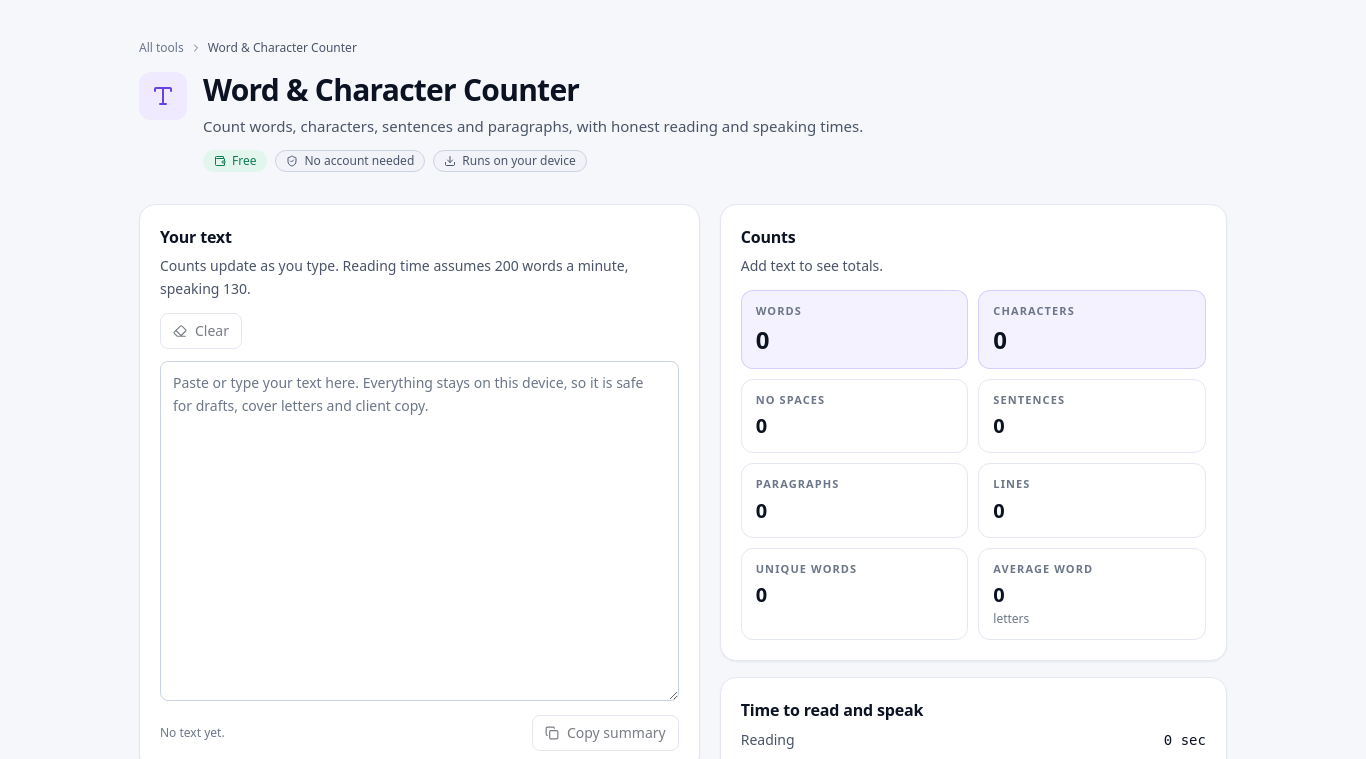
it: WordCounterPage › reports zero for an empty editor and clears back to that state
Expected: the 1st text "0" is shown, [756, 323, 769, 356]
Type "one two" into the text box named "Text to analyse" at [419, 531], box [160, 361, 679, 701]
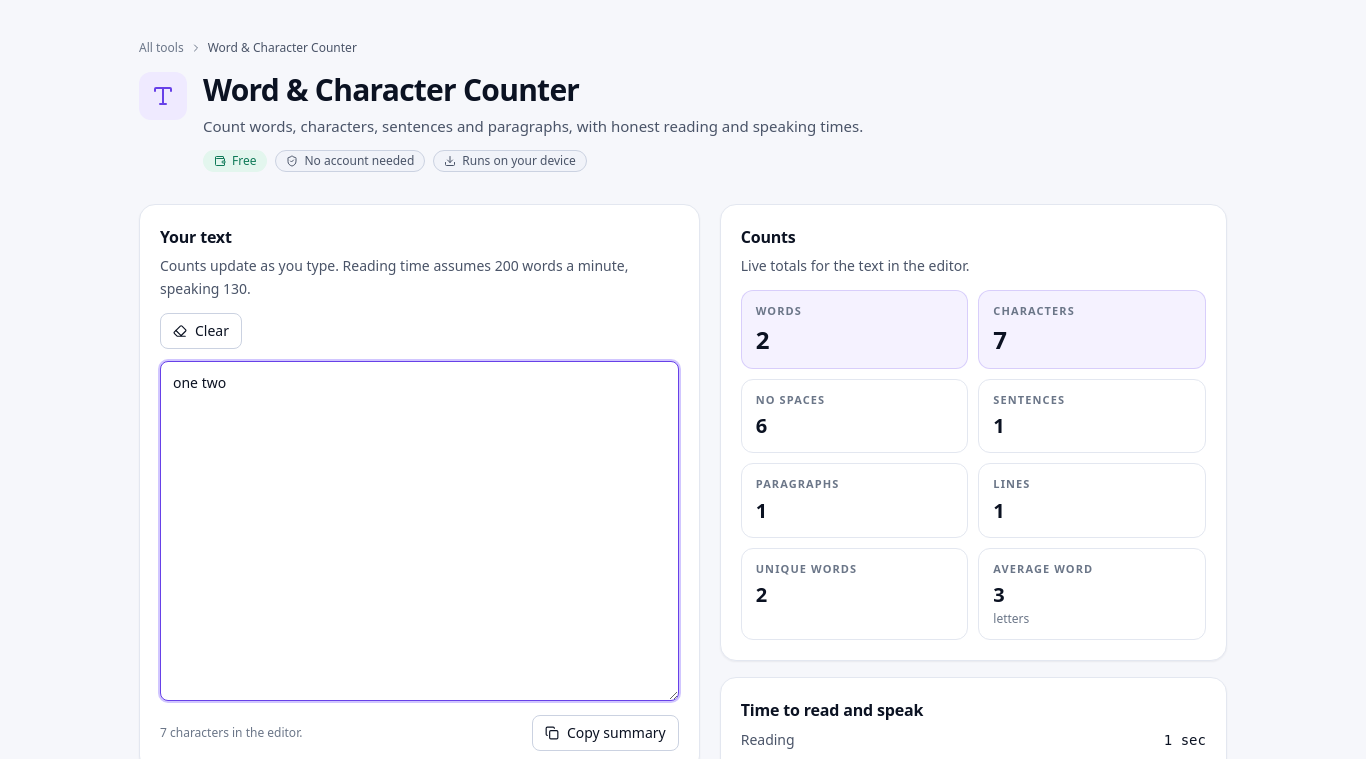
Expected: the 1st text "2" is shown, [756, 323, 769, 356]
Click the button "Clear" at [201, 331], box [160, 313, 242, 349]
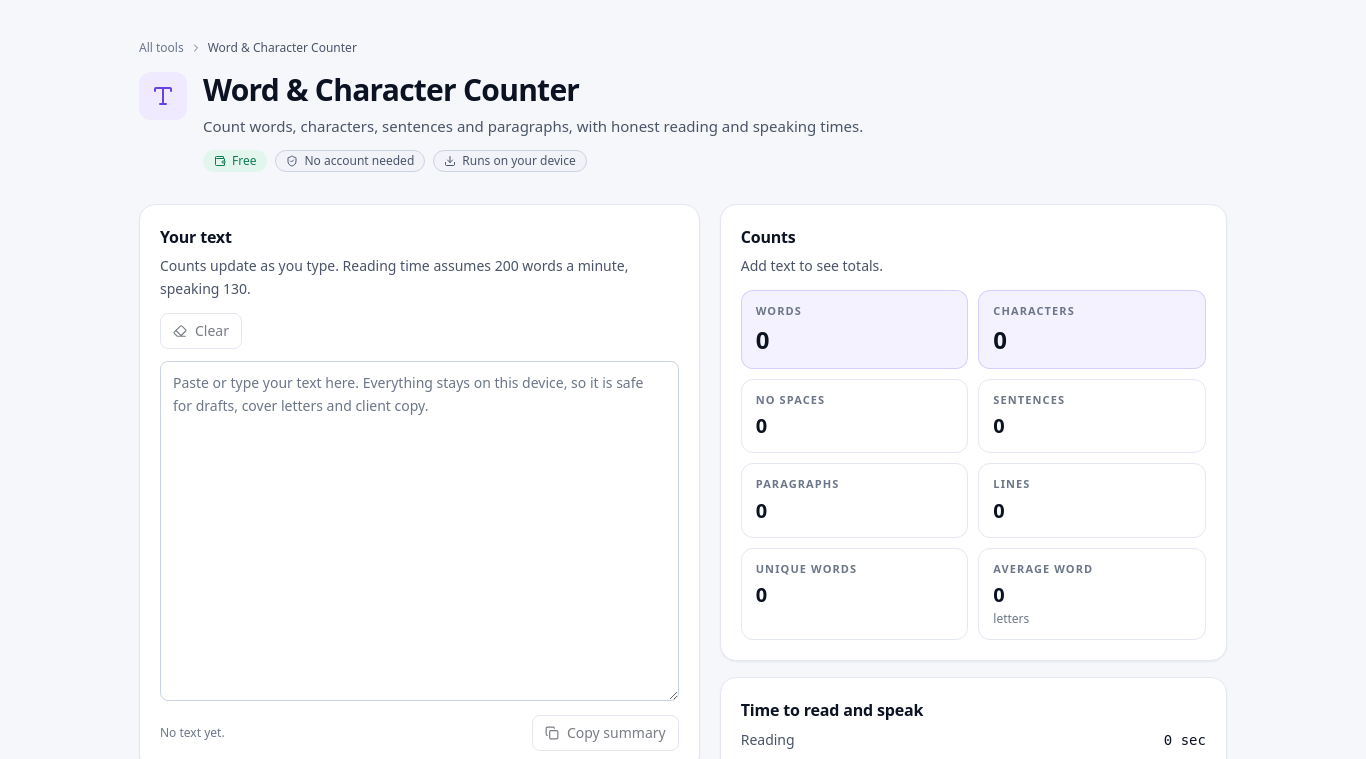
Now the 1st text "0" is shown, box [756, 323, 769, 356]
